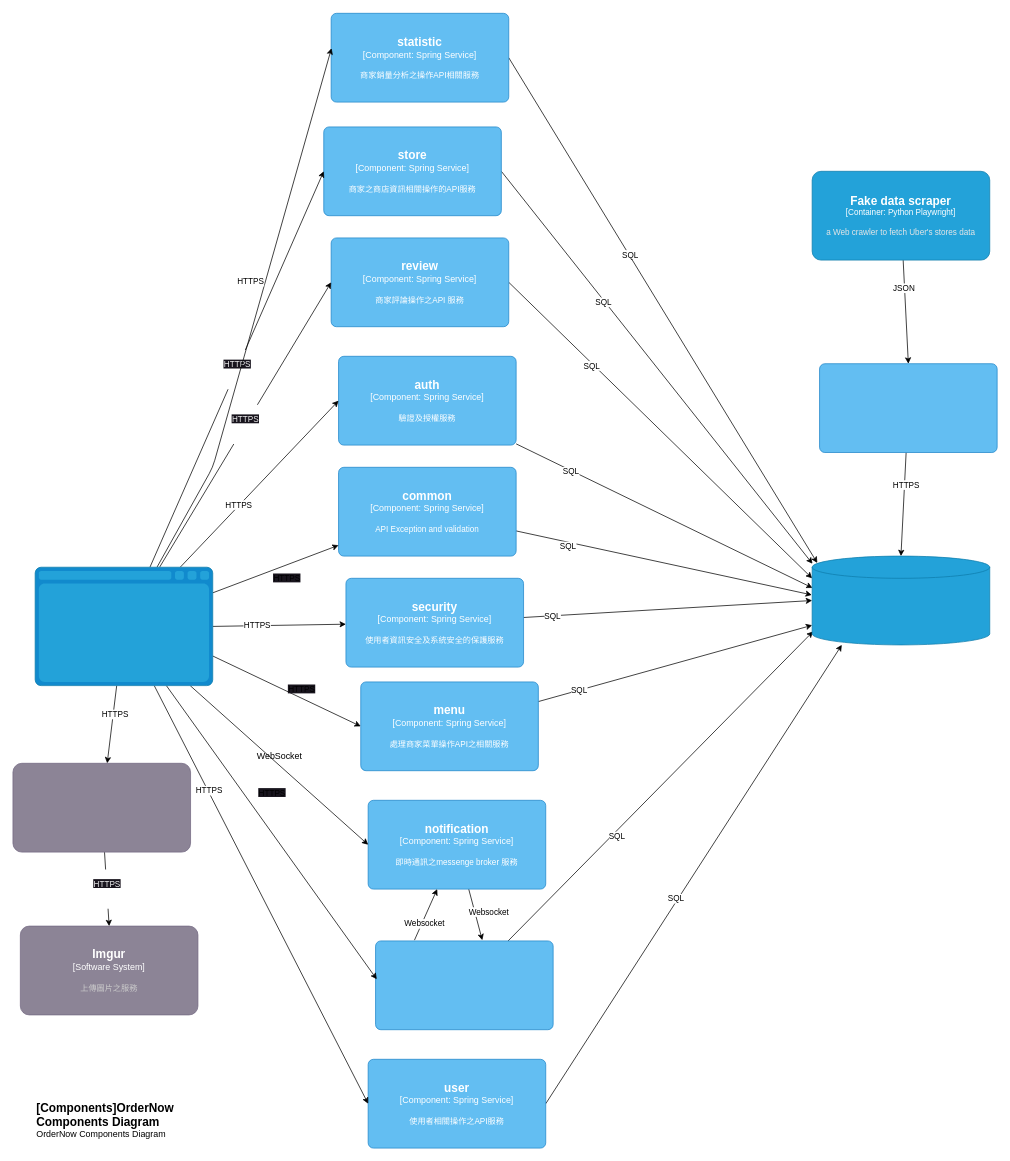
The diagram is 1010 pixels wide and 1161 high, and some of its shapes have lost their labels. The box of each missing label's shape, as (x1, y1, x2, y2) in pixels:
data loder [Component: Spring Service] 處理demo展示用之fake data: (819, 363, 997, 453)
Image Upload Server [Software System] Internal Express Image upload server: (12, 763, 191, 852)
order [Component: Spring Service] 訂單相關操作之API 服務: (375, 940, 553, 1030)
Repository [Database: MonogoDB Atlas]: (811, 555, 990, 645)
view [React SPA: React, TailwindCSS, Vite, Zustand, Tanstack Query] React SPA: (34, 566, 213, 686)
